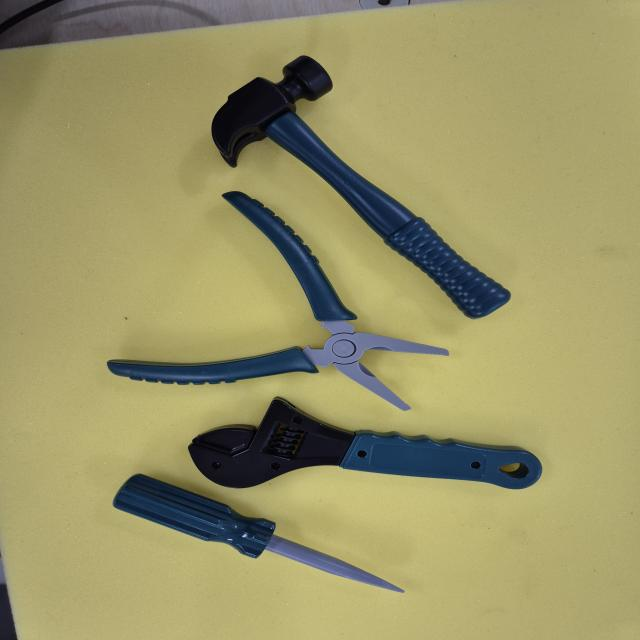hammer: (173, 49, 522, 327)
pliers: (81, 177, 474, 423)
screwdriver: (85, 466, 421, 612)
wrench: (160, 386, 571, 516)
